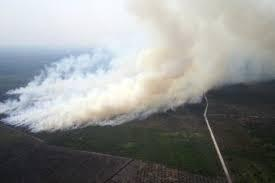yanwu: (4, 1, 271, 127)
